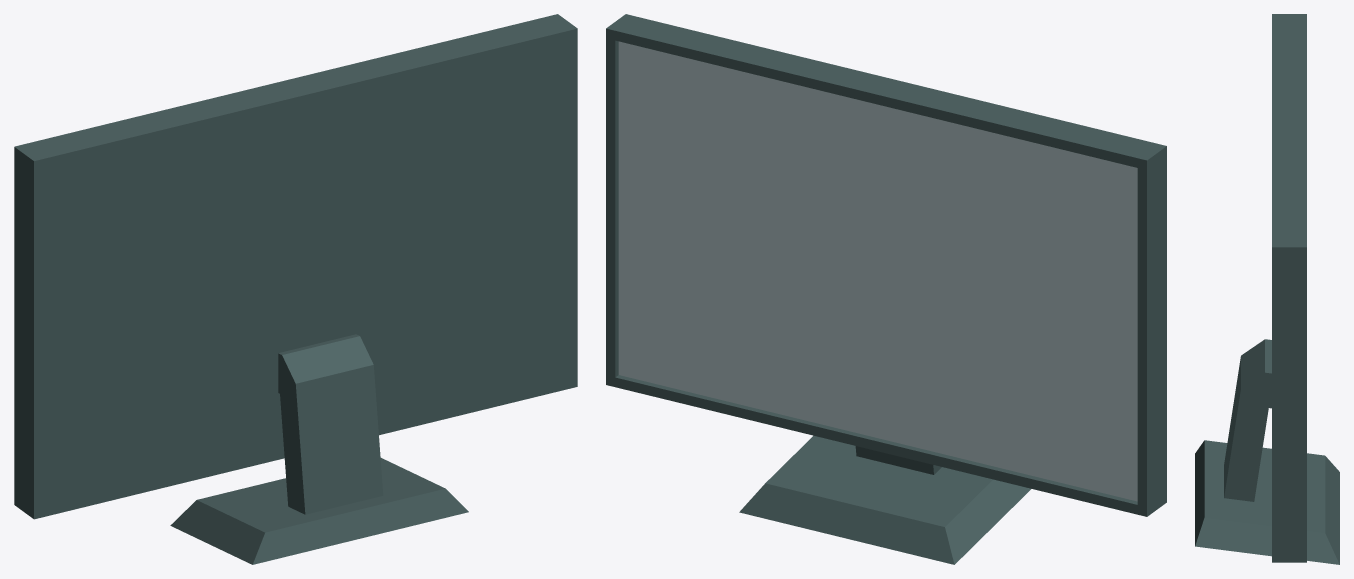
Rendered from device-monitor.glb.
3 renders of one model, left to right at view 1: azimuth 30°, elevation 25°; view 2: azimuth 150°, elevation 25°; view 3: azimuth 270°, elevation 25°, orthographic. The views are drawn at different scales.
Visible parts, largest first — view 1: computerScreen; view 2: computerScreen; view 3: computerScreen.
Boxes of the visible parts, box(x1,y1,x2,y2) form: computerScreen: box(14, 14, 577, 564); computerScreen: box(606, 14, 1166, 564); computerScreen: box(1195, 14, 1339, 564).
Size of the model in its own units: 0.4661 by 0.3566 by 0.1222.
